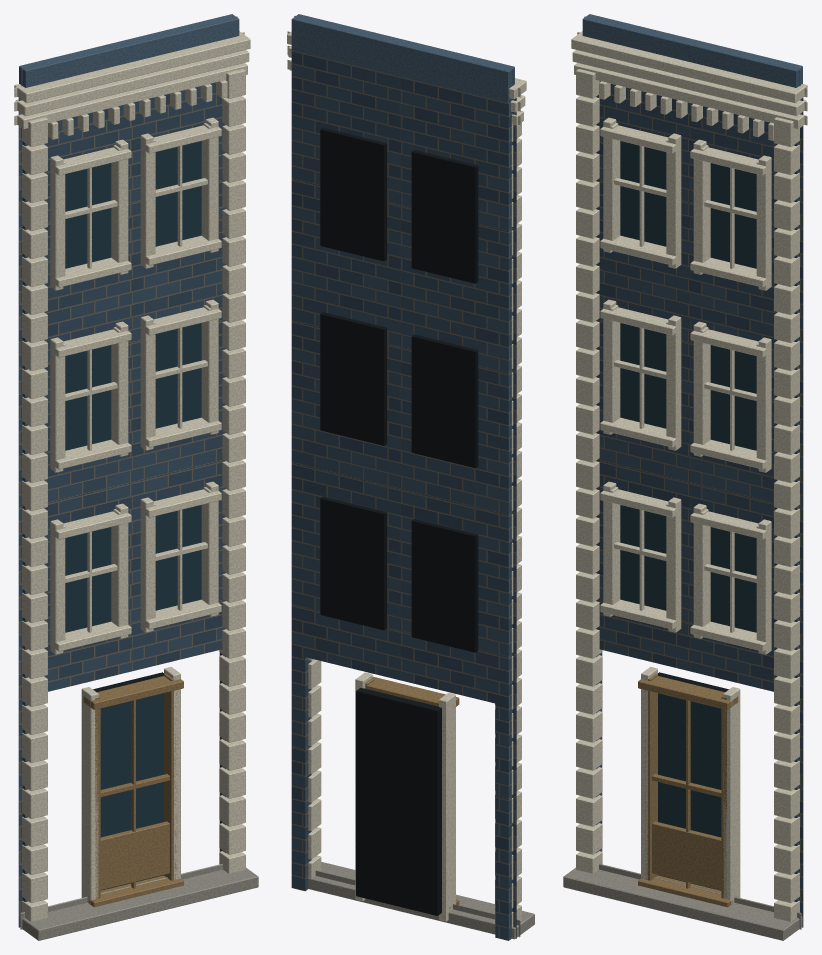
The model's file is OFFC13_lod1.glb.
3 views of the same model, side by side, from view 1: azimuth 30°, elevation 25°; view 2: azimuth 150°, elevation 25°; view 3: azimuth 330°, elevation 25° (orthographic).
Parts seen in each view (by area): view 1: OFFC13_FRONT_LOD1; view 2: OFFC13_FRONT_LOD1; view 3: OFFC13_FRONT_LOD1.
Part boxes in pixels (x1=…): OFFC13_FRONT_LOD1: x1=14, y1=14, x2=258, y2=940; OFFC13_FRONT_LOD1: x1=287, y1=14, x2=534, y2=940; OFFC13_FRONT_LOD1: x1=563, y1=14, x2=807, y2=940.
Bounding box in the file's own units: 3.44 × 12.26 × 0.68.
8 materials, 6 textured.
